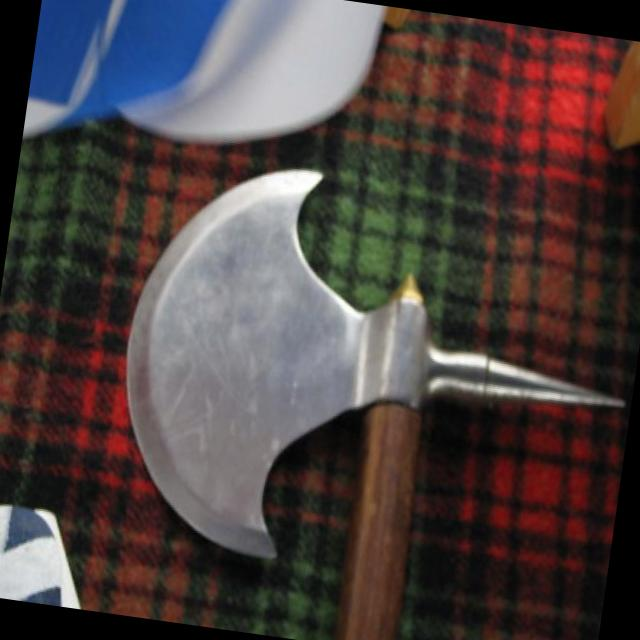Axe: (127, 170, 621, 640)
